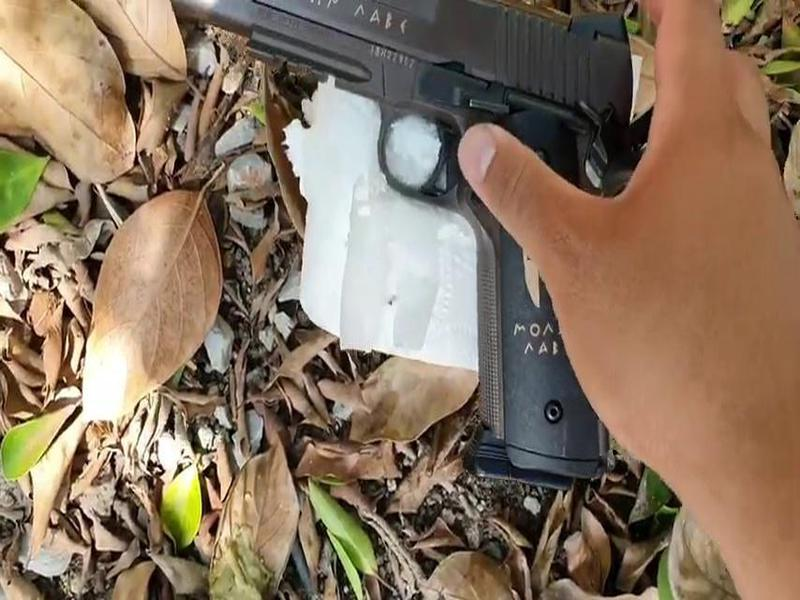Pistola: (129, 1, 618, 488)
